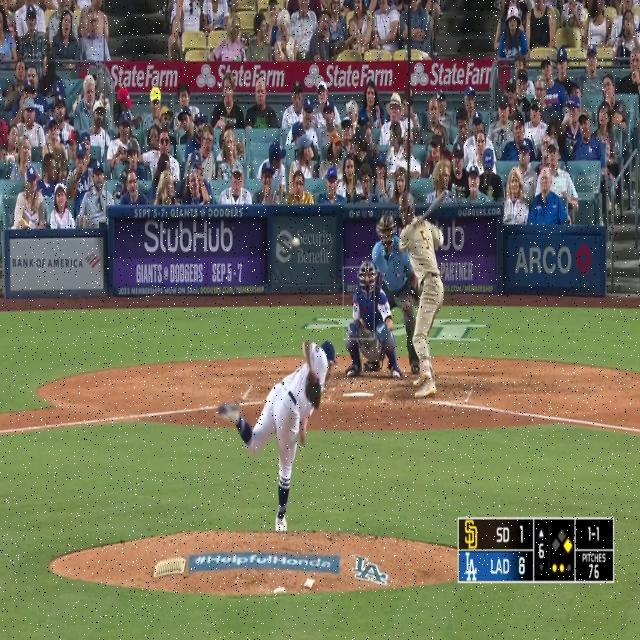baseball: (292, 237, 300, 248)
